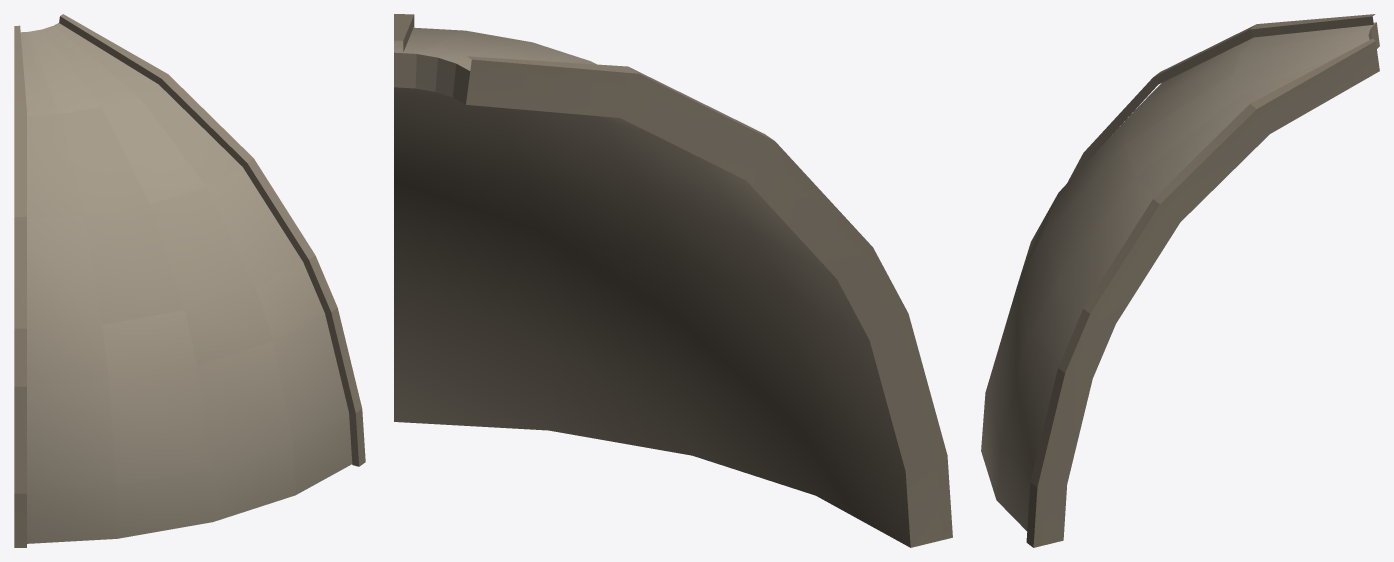
The model's file is dome.panel_6.stone.glb.
The picture shows the model from 3 angles, left to right: view 1: azimuth 30°, elevation 25°; view 2: azimuth 150°, elevation 25°; view 3: azimuth 270°, elevation 25°; orthographic projection. The views are drawn at different scales.
Parts seen in each view (by area): view 1: dome_panel_6_stone; view 2: dome_panel_6_stone; view 3: dome_panel_6_stone.
Part boxes in pixels (x1,y1,x2,y2): dome_panel_6_stone: [14, 14, 365, 547]; dome_panel_6_stone: [394, 14, 952, 547]; dome_panel_6_stone: [981, 14, 1379, 547].
Size of what is drawn, in the model's own units: 3.57 by 3.63 by 3.1.
